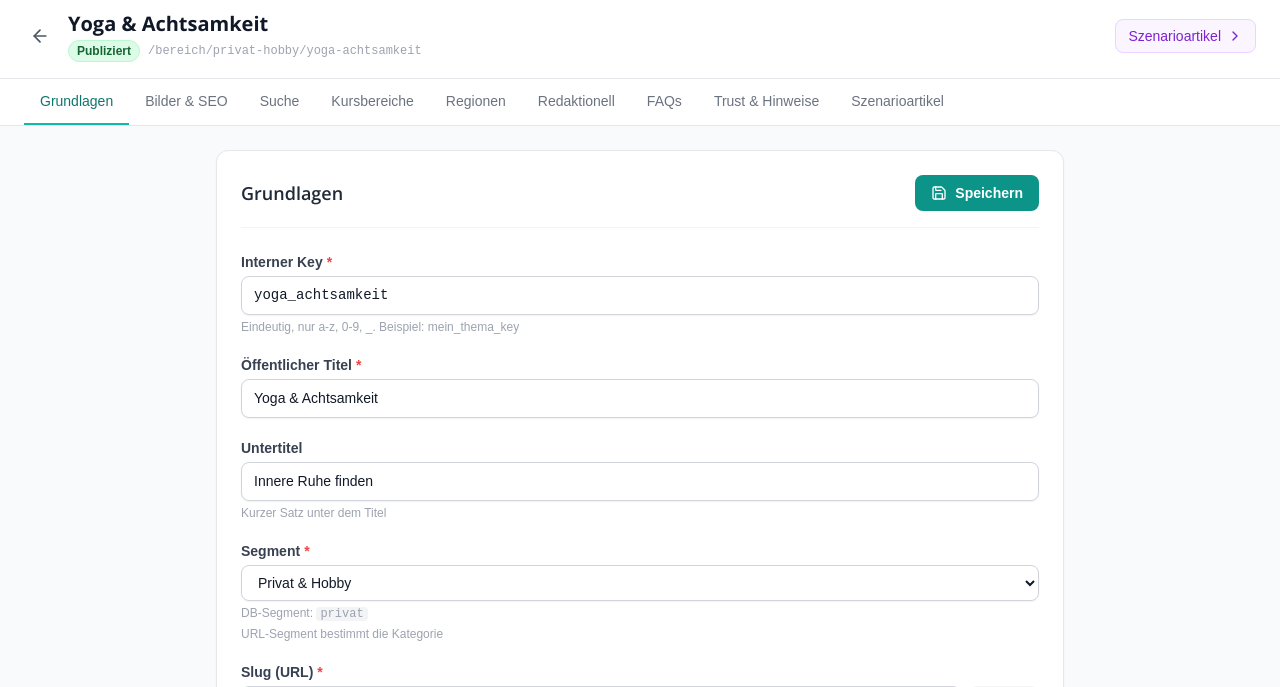
Admin lädt bestehende Trust-/CTA-Texte › zeigt trust_heading, cta_heading und cta_button aus section_titles
Click the button "Trust & Hinweise" at (767, 102), box [698,79,835,125]
(page scrolled)
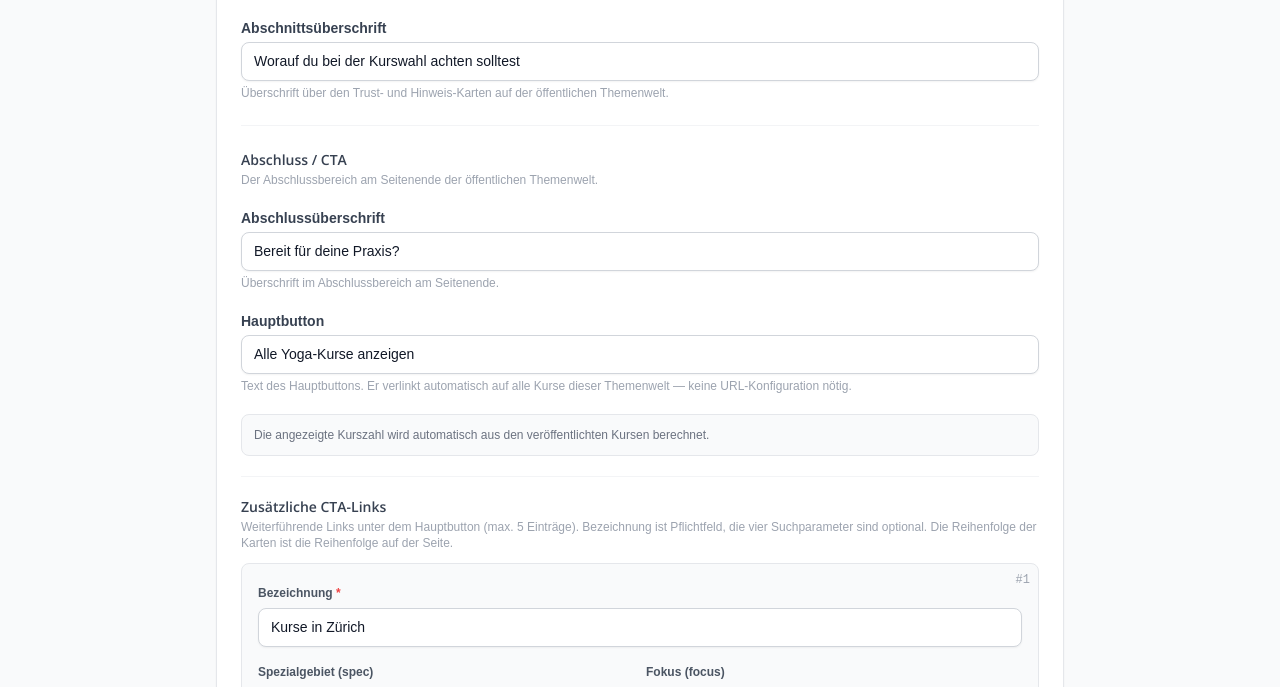
Now the field below "Abschnittsüberschrift" holds "Worauf du bei der Kurswahl achten solltest", box [241,42,1039,81]
Now the field below "Abschlussüberschrift" holds "Bereit für deine Praxis?", box [241,232,1039,271]
Now the 3rd field holds "Alle Yoga-Kurse anzeigen", box [241,335,1039,374]
